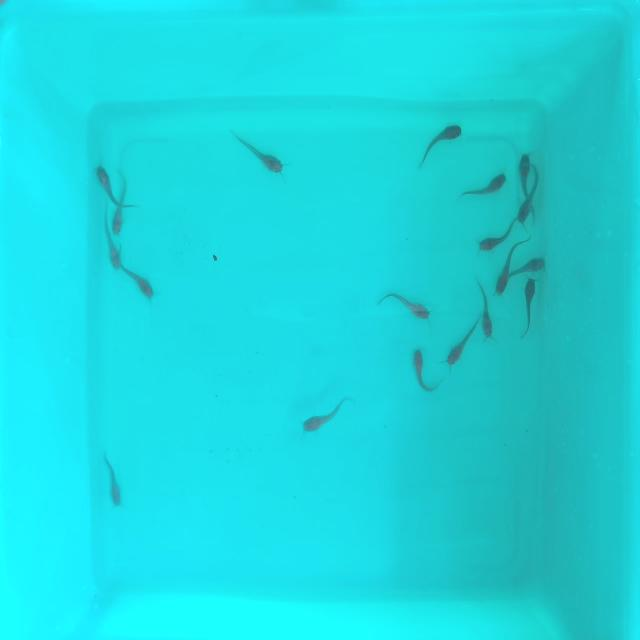lele: (227, 128, 287, 178), (414, 122, 466, 172), (301, 396, 354, 438), (381, 289, 435, 325), (123, 255, 161, 303), (456, 171, 510, 203), (472, 280, 494, 340), (518, 184, 546, 230), (102, 450, 124, 506), (450, 313, 472, 368), (408, 346, 433, 394), (93, 166, 116, 218), (522, 278, 540, 336), (112, 172, 128, 236), (476, 225, 508, 253), (496, 248, 512, 294), (511, 257, 547, 277), (104, 234, 122, 274), (519, 150, 537, 184)
